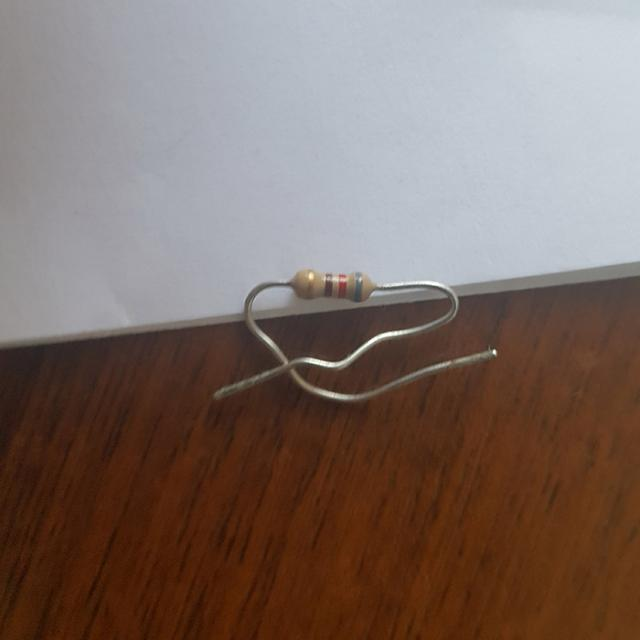brown: (325, 273, 332, 295)
gold: (307, 271, 313, 295)
grey: (355, 272, 361, 301)
red: (338, 273, 346, 295)
resistor: (281, 261, 381, 314)
